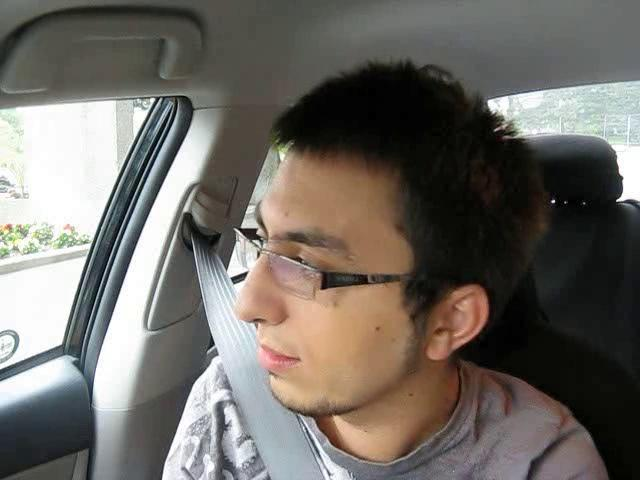no_yawn: (237, 333, 318, 382)
open_eyeR: (259, 240, 333, 290)
